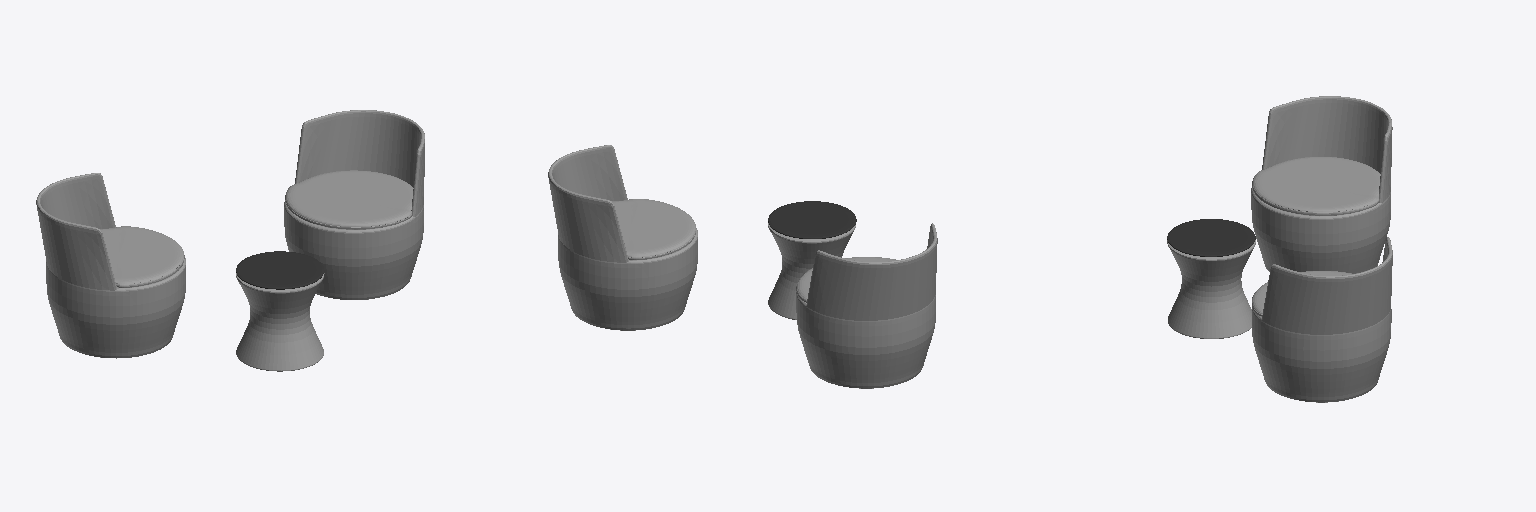
The model's file is barrelset.obj.
3 renders of one model, left to right at view 1: azimuth 30°, elevation 25°; view 2: azimuth 150°, elevation 25°; view 3: azimuth 270°, elevation 25°, orthographic.
Parts seen in each view (by area): view 1: Cylinder.009_Cylinder.012, Cylinder, Cylinder.008_Cylinder.011, Cylinder.002, Cylinder.001_Cylinder.010, Cylinder.003; view 2: Cylinder, Cylinder.009_Cylinder.012, Cylinder.008_Cylinder.011, Cylinder.002, Cylinder.003; view 3: Cylinder.009_Cylinder.012, Cylinder, Cylinder.001_Cylinder.010, Cylinder.002, Cylinder.003.
Part boxes in pixels (left/top/right/bottom): Cylinder.009_Cylinder.012: left=284, top=110, right=424, bottom=299; Cylinder: left=36, top=173, right=185, bottom=358; Cylinder.008_Cylinder.011: left=285, top=170, right=413, bottom=229; Cylinder.002: left=236, top=273, right=324, bottom=371; Cylinder.001_Cylinder.010: left=100, top=226, right=184, bottom=287; Cylinder.003: left=236, top=251, right=323, bottom=289; Cylinder: left=796, top=223, right=937, bottom=388; Cylinder.009_Cylinder.012: left=548, top=145, right=697, bottom=330; Cylinder.008_Cylinder.011: left=612, top=199, right=695, bottom=259; Cylinder.002: left=768, top=223, right=855, bottom=319; Cylinder.003: left=768, top=201, right=856, bottom=238; Cylinder.009_Cylinder.012: left=1252, top=237, right=1392, bottom=402; Cylinder: left=1251, top=96, right=1392, bottom=273; Cylinder.001_Cylinder.010: left=1252, top=157, right=1380, bottom=215; Cylinder.002: left=1167, top=240, right=1255, bottom=338; Cylinder.003: left=1167, top=219, right=1255, bottom=256.
Size of the model in its own units: 97.79 by 35.18 by 51.35.